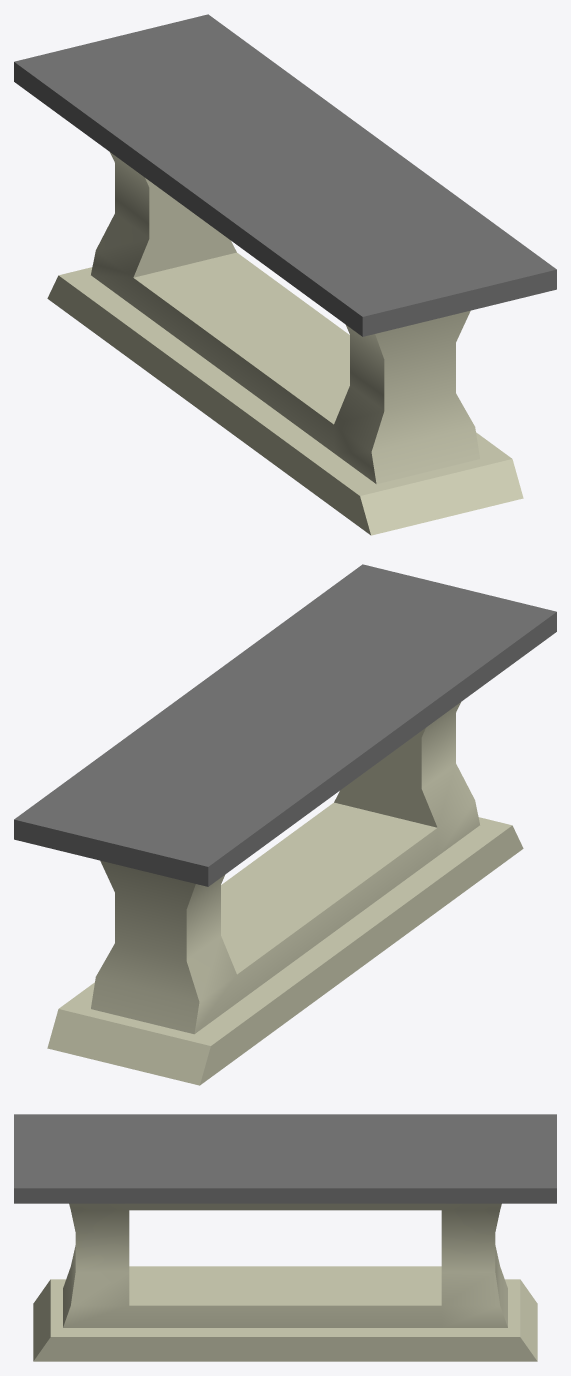
The model's file is Table.fbx.
3 renders of one model, top to bottom at view 1: azimuth 30°, elevation 25°; view 2: azimuth 150°, elevation 25°; view 3: azimuth 270°, elevation 25°, orthographic. The views are drawn at different scales.
Visible parts, largest first — view 1: Table; view 2: Table; view 3: Table.
Boxes of the visible parts, x1=… form: Table: x1=14, y1=14, x2=556, y2=535; Table: x1=14, y1=564, x2=556, y2=1085; Table: x1=14, y1=1114, x2=556, y2=1361.
Bounding box in the file's own units: 1.79 × 2.05 × 5.57.
